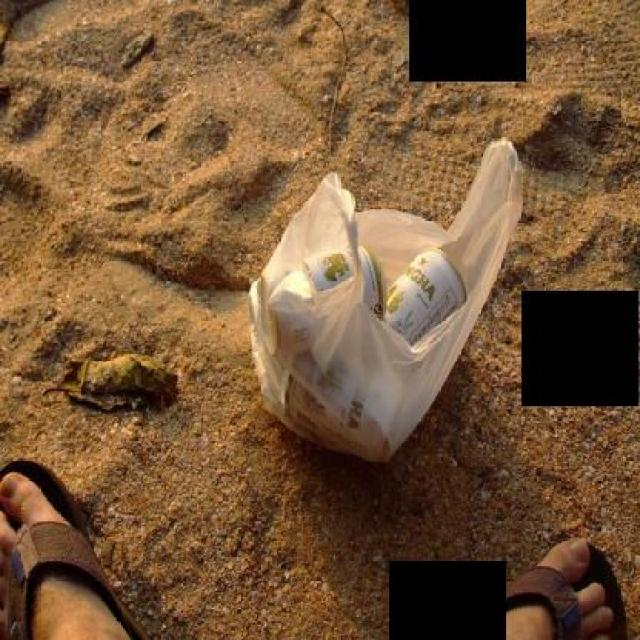plastic bag: (244, 134, 522, 463)
